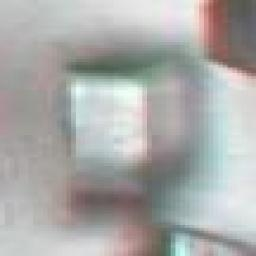crystals: (39, 51, 216, 220)
